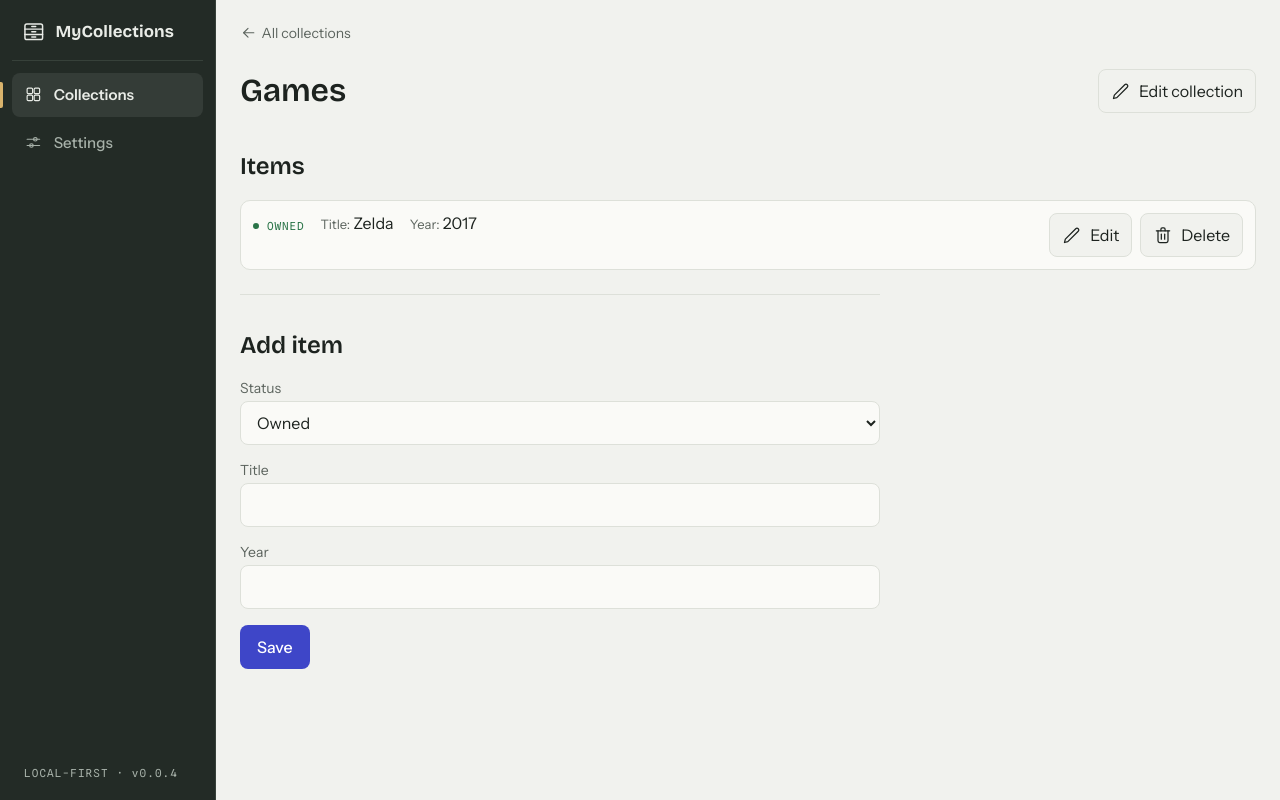
Test: CollectionDetailPage › undo toast › says so and keeps the toast when the undo itself fails
This screenshot has width=1280, height=800.
Expected: the text "Zelda" is shown, [353, 213, 394, 233]
Click the button "Delete" at [1192, 235], box [1140, 213, 1243, 257]
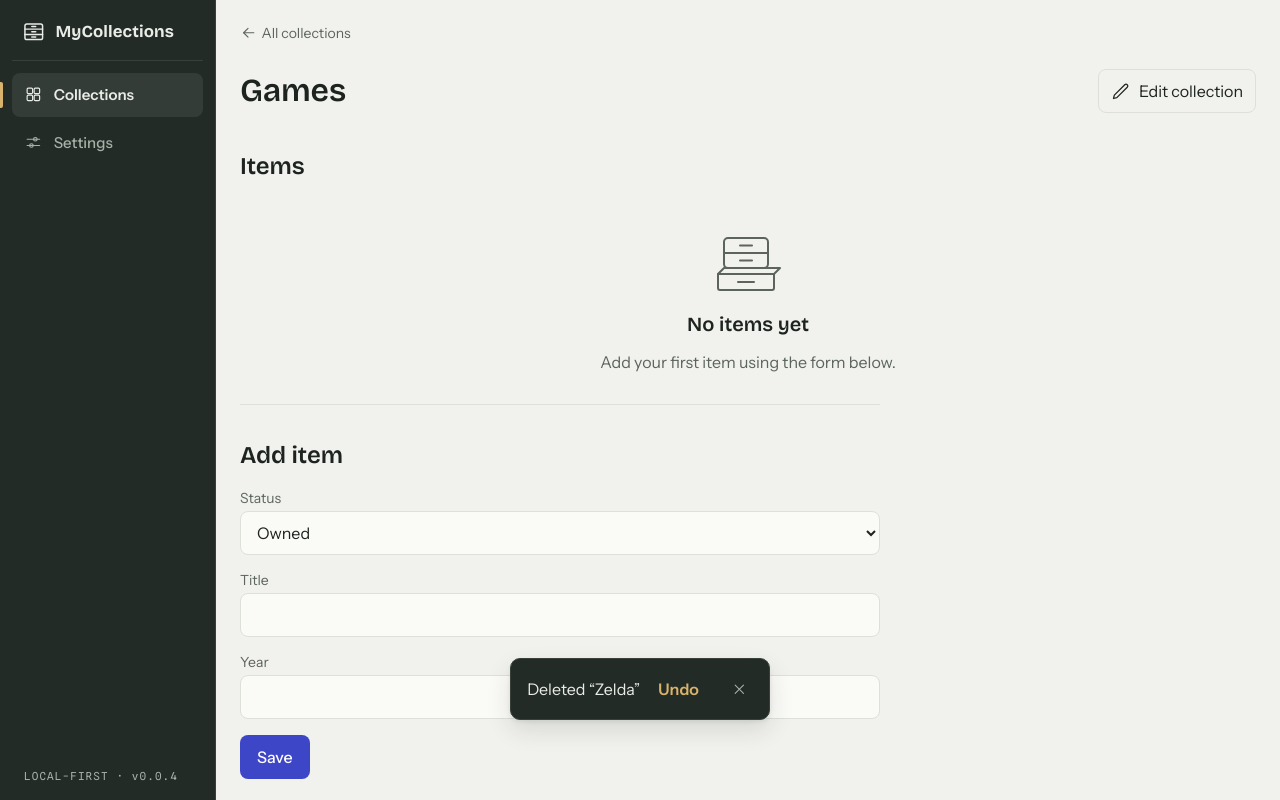
Click the button "Undo" at [679, 689], box [652, 667, 705, 711]
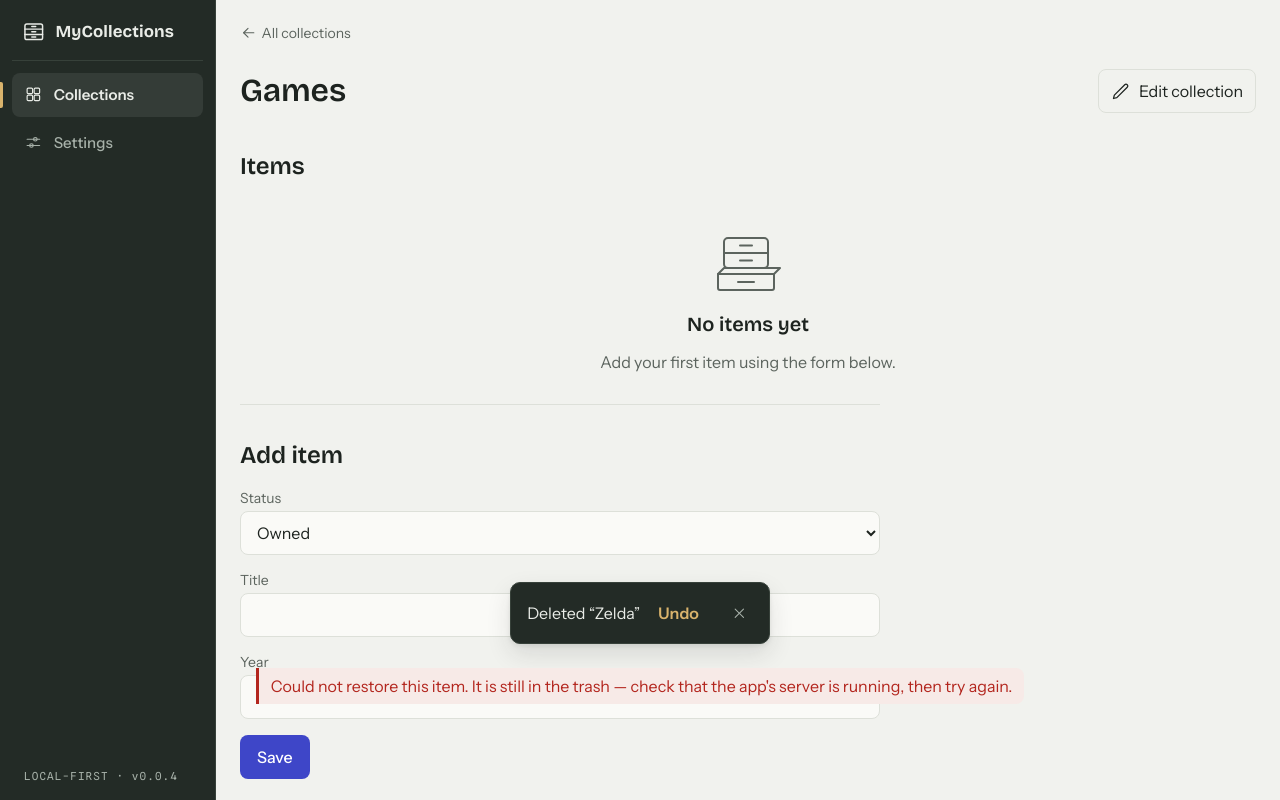
Expected: the number of elements with class "undo-toast-live" is 1, [510, 582, 770, 644]
Expected: the button "Undo" is shown, [652, 591, 705, 635]
Expected: the message shows "Could not restore this item", [271, 676, 1012, 696]
